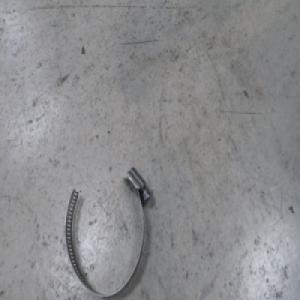AdjustableClamp: (65, 163, 154, 296)
